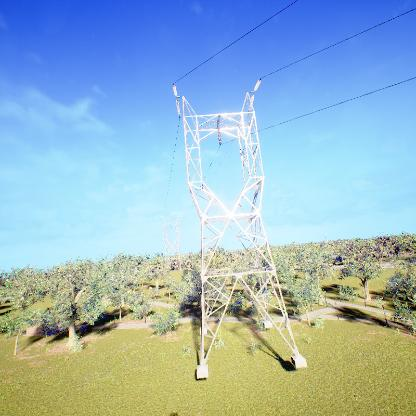tower: (172, 77, 309, 381)
